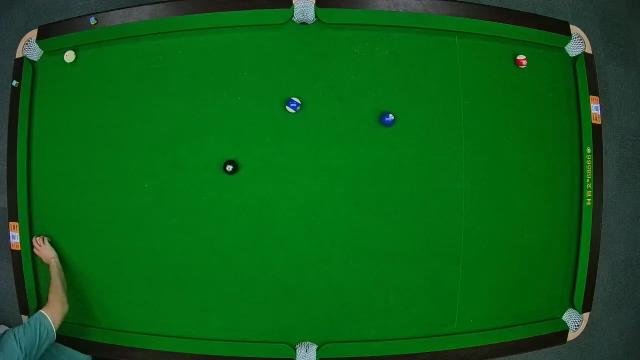bag1: (22, 38, 44, 60)
bag2: (291, 0, 317, 26)
bag3: (566, 29, 588, 57)
bag5: (294, 340, 318, 360)
bag6: (563, 308, 585, 332)
ball0: (62, 48, 78, 64)
ball10: (284, 97, 300, 114)
ball11: (514, 54, 530, 68)
ball2: (380, 113, 396, 127)
ball8: (224, 160, 238, 176)
